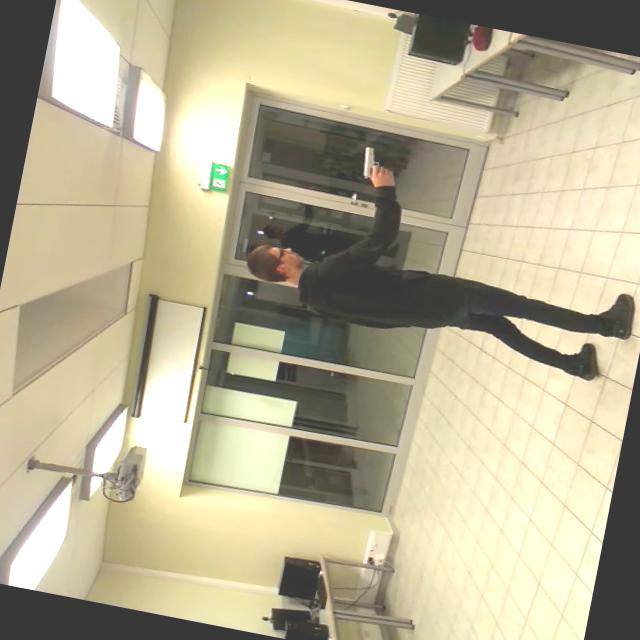handgun: (356, 128, 404, 192)
